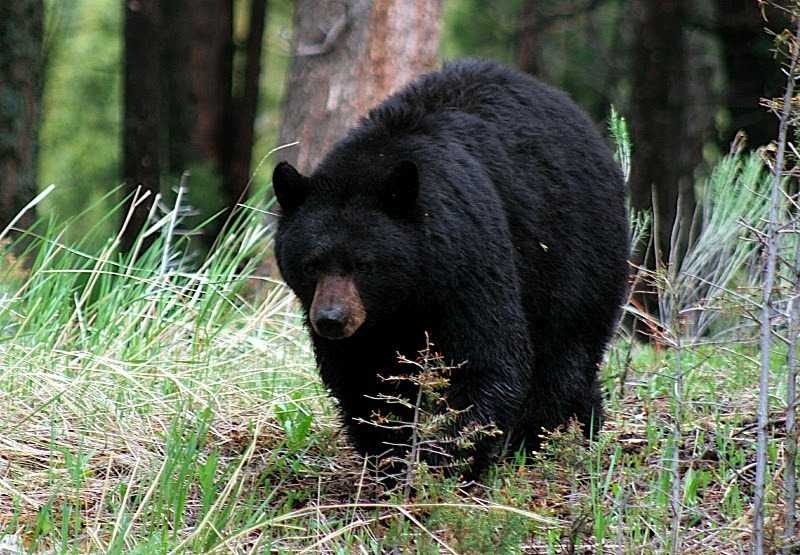bear: (276, 221, 404, 349), (271, 141, 399, 269)
